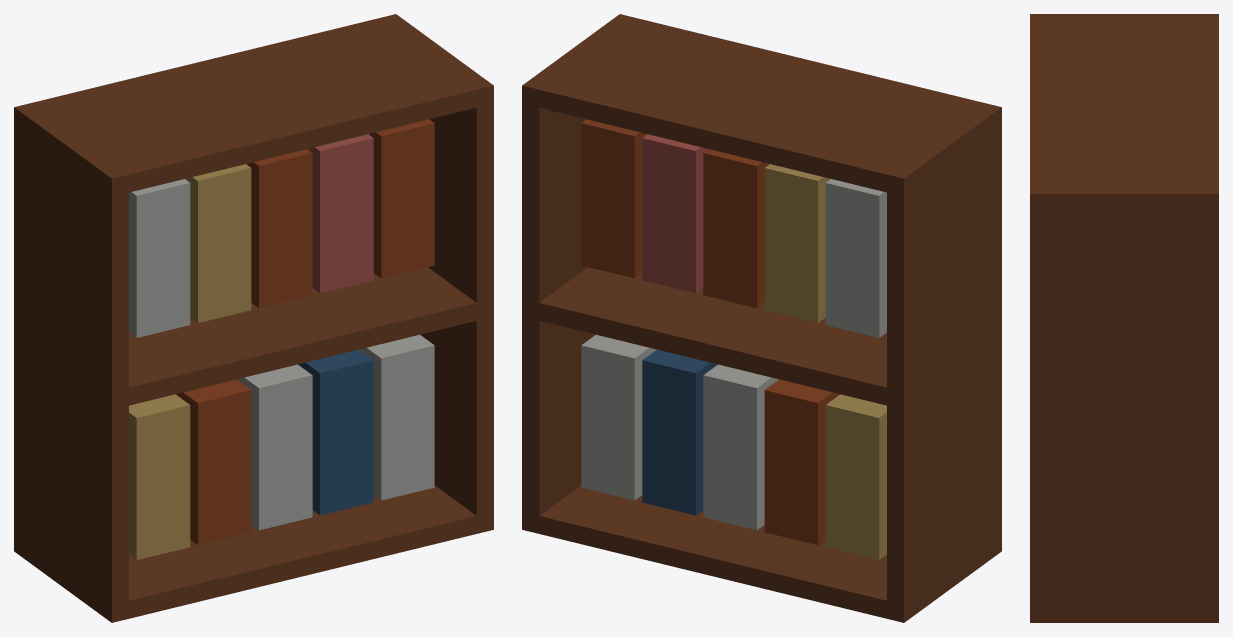
Rendered from book_trolley.glb.
3 renders of one model, left to right at view 1: azimuth 30°, elevation 25°; view 2: azimuth 150°, elevation 25°; view 3: azimuth 270°, elevation 25°, orthographic. The views are drawn at different scales.
Parts seen in each view (by area): view 1: body; view 2: body; view 3: body.
Boxes of the visible parts, bbox=[...] form: body: bbox=[14, 14, 493, 622]; body: bbox=[522, 14, 1001, 622]; body: bbox=[1030, 14, 1218, 622].
Size of the model in its own units: 0.898 by 0.998 by 0.398.
1 material, 1 textured.
